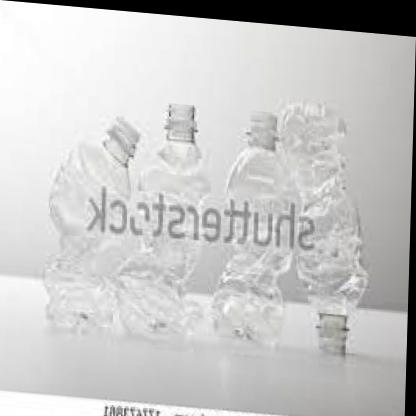Plastic: (37, 84, 145, 347), (280, 80, 371, 368), (126, 80, 212, 356), (206, 78, 290, 341)
